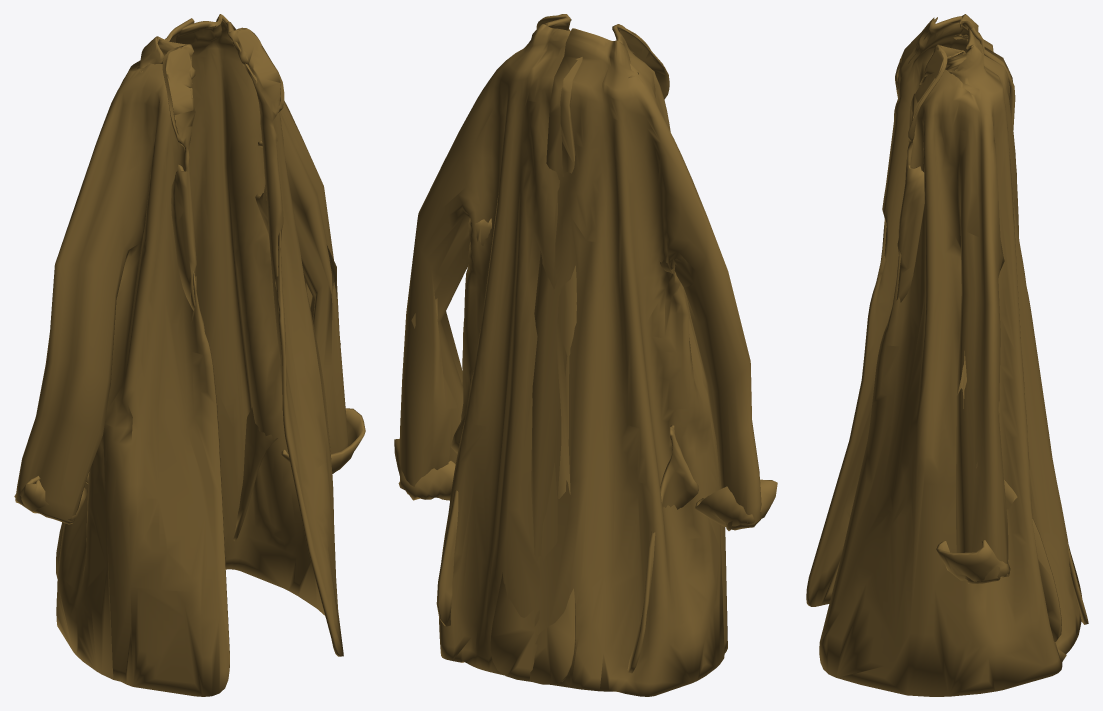
Rendered from cout.fbx.
3 views of the same model, side by side, from view 1: azimuth 30°, elevation 25°; view 2: azimuth 150°, elevation 25°; view 3: azimuth 270°, elevation 25° (orthographic). The views are drawn at different scales.
Parts seen in each view (by area): view 1: Cylinder.012; view 2: Cylinder.012; view 3: Cylinder.012.
Part boxes in pixels (box(x1,y1,x2,y2)): Cylinder.012: box(14, 14, 365, 696); Cylinder.012: box(394, 14, 777, 696); Cylinder.012: box(806, 14, 1088, 696).
Size of the model in its own units: 1.09 by 0.7477 by 1.79.
